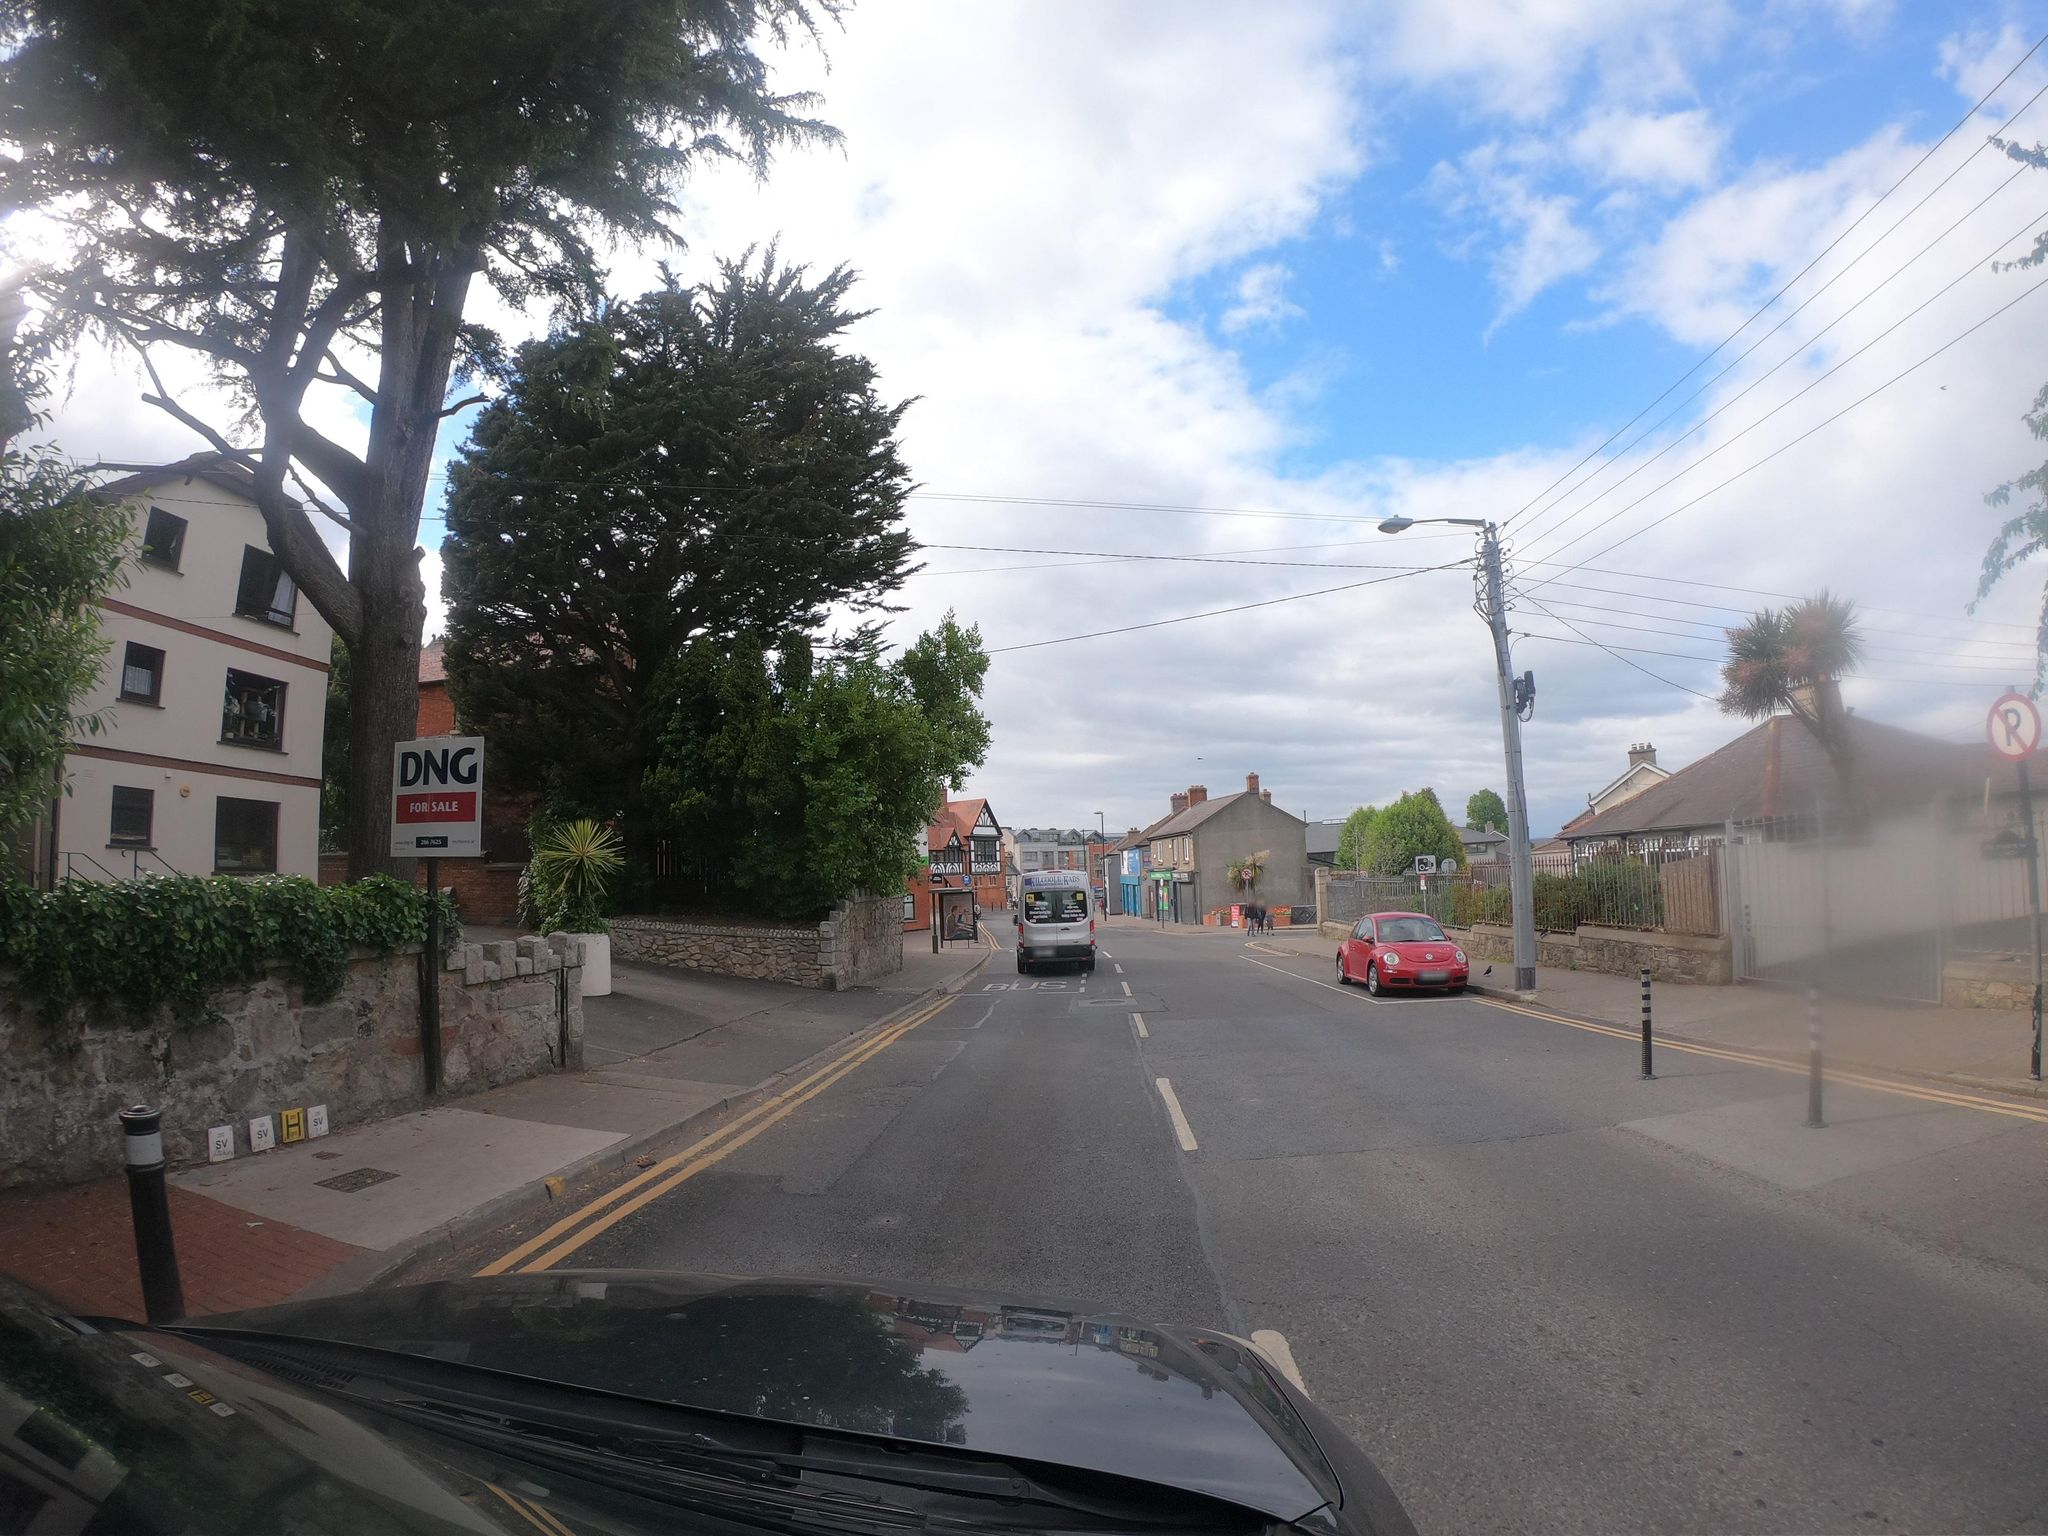property sign: (361, 715, 506, 870)
